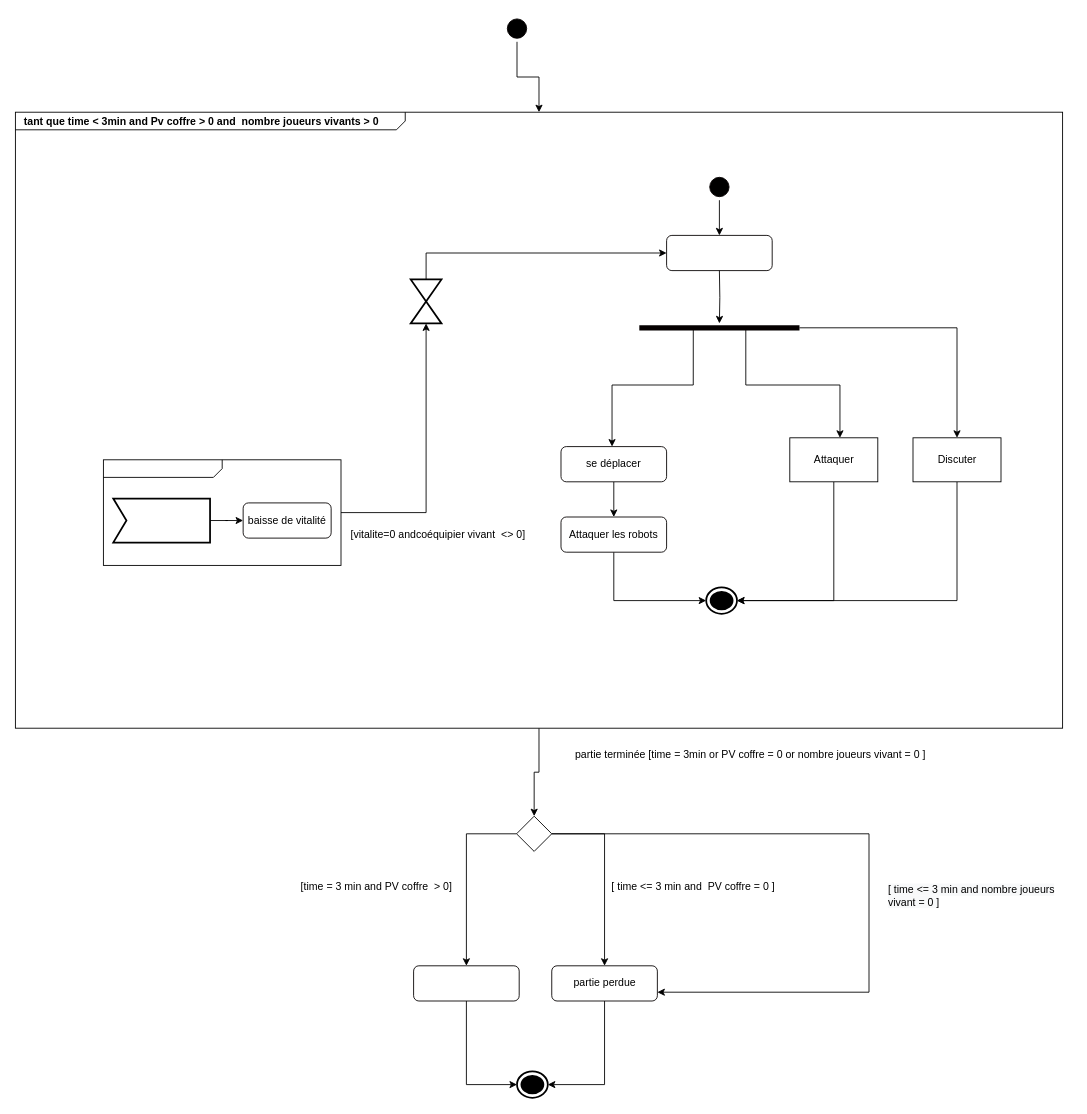
This 1087x1114 diagram has some shape labels left out. The box of each missing label's shape, as (x1, y1, x2, y2) in pixels:
commencer le jeu: (666, 235, 772, 271)
partie gagnée: (413, 965, 519, 1001)
reçois attaque: (112, 497, 210, 543)
tant que: (103, 459, 341, 565)
